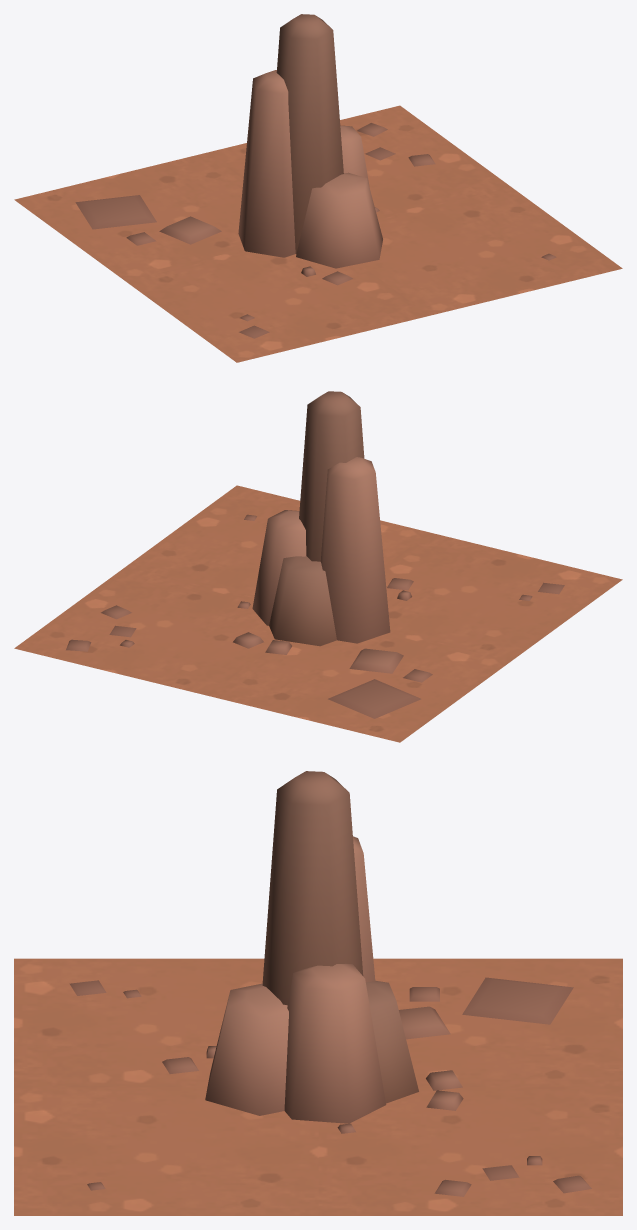
Rendered from template-floor-big.obj.
3 views of the same model, one above another, from view 1: azimuth 30°, elevation 25°; view 2: azimuth 150°, elevation 25°; view 3: azimuth 270°, elevation 25° (orthographic). The views are drawn at different scales.
Parts seen in each view (by area): view 1: template-floor-big; view 2: template-floor-big; view 3: template-floor-big.
Part boxes in pixels (left/top/right/bottom): template-floor-big: left=14, top=14, right=622, bottom=362; template-floor-big: left=14, top=391, right=622, bottom=742; template-floor-big: left=14, top=771, right=622, bottom=1215.
Size of the model in its own units: 8 by 4.35 by 8.
Materials: 1 (1 with a texture image).
